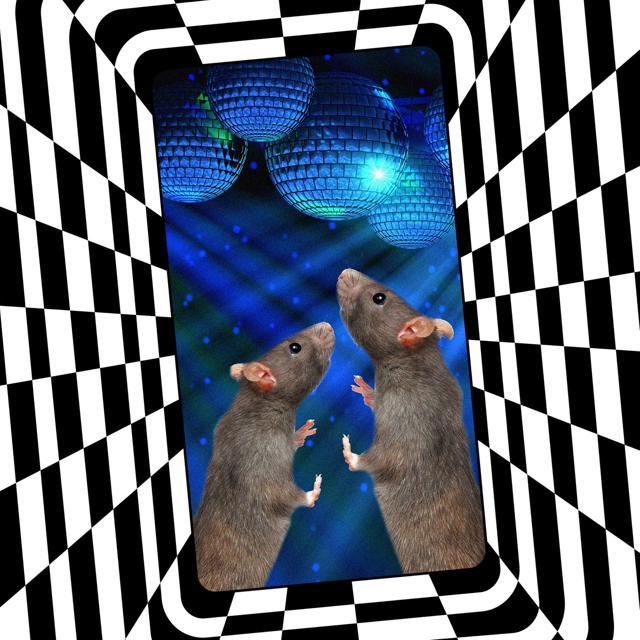rat: (329, 260, 489, 568), (202, 319, 325, 590)
